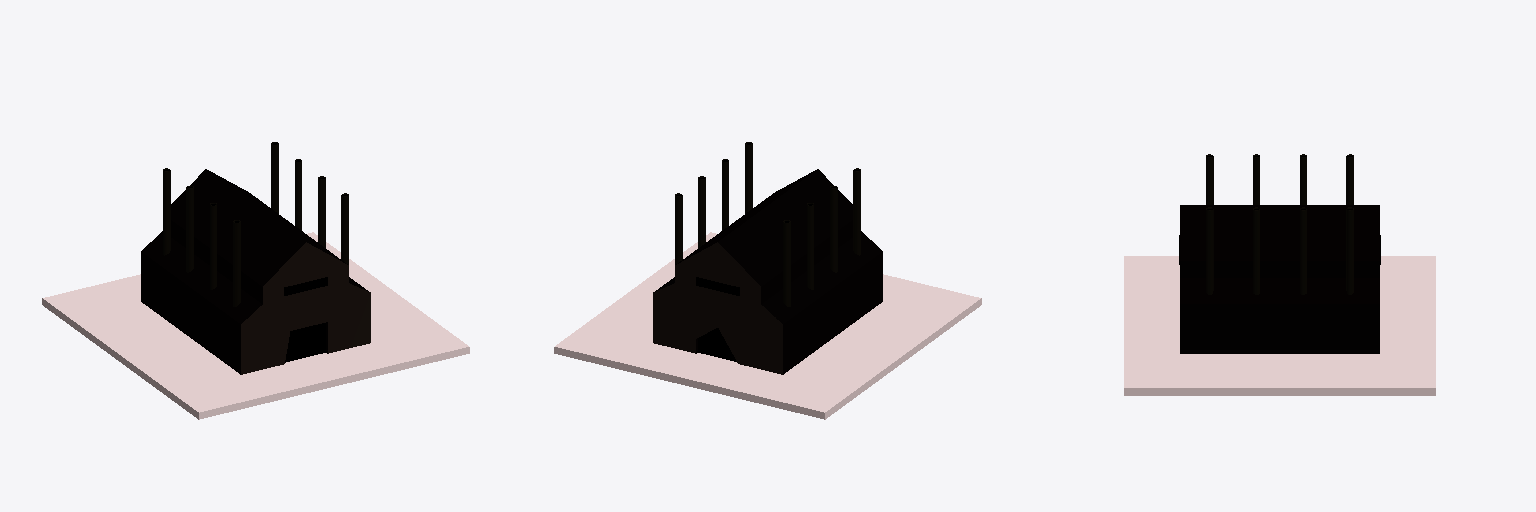
The model's file is TallerDeAceracion.obj.
3 views of the same model, side by side, from view 1: azimuth 30°, elevation 25°; view 2: azimuth 150°, elevation 25°; view 3: azimuth 270°, elevation 25° (orthographic).
Visible parts, largest first — view 1: Floor, MainBuilding1 Sides2 MainBuilding1, MainBuilding1 Exterior BuildingAttachment1, MainBuilding1 MainBuilding1 FrontAndBack2, MainBuilding1 BuildingAttachment1 Faces, MainBuilding1 BuildingAttachment2 Faces, MainBuildingEntrance1 MainBuilding1, Pipe Chimney2, Pipe Chimney1, Pipe Chimney4, Pipe Chimney3, Pipe Chimney7 (+2 smaller); view 2: Floor, MainBuilding1 Sides2 MainBuilding1, MainBuilding1 Exterior BuildingAttachment1, MainBuilding1 MainBuilding1 FrontAndBack2, MainBuilding1 BuildingAttachment1 Faces, MainBuilding1 BuildingAttachment2 Faces, MainBuildingEntrance1 MainBuilding1, Pipe Chimney3, Pipe Chimney4, Pipe Chimney1, Pipe Chimney2, Pipe Chimney6 (+2 smaller); view 3: Floor, MainBuilding1 Exterior BuildingAttachment2, MainBuilding1 Sides2 MainBuilding1, Pipe Chimney5, Pipe Chimney8, Pipe Chimney6, Pipe Chimney7.
Boxes of the visible parts, x1,y1,x2,y2 form: Floor: [42, 232, 469, 419]; MainBuilding1 Sides2 MainBuilding1: [171, 169, 347, 353]; MainBuilding1 Exterior BuildingAttachment1: [141, 231, 262, 374]; MainBuilding1 MainBuilding1 FrontAndBack2: [263, 242, 348, 368]; MainBuilding1 BuildingAttachment1 Faces: [150, 242, 262, 374]; MainBuilding1 BuildingAttachment2 Faces: [349, 283, 370, 347]; MainBuildingEntrance1 MainBuilding1: [285, 323, 325, 362]; Pipe Chimney2: [186, 185, 193, 272]; Pipe Chimney1: [163, 168, 170, 255]; Pipe Chimney4: [233, 220, 240, 306]; Pipe Chimney3: [210, 203, 216, 289]; Pipe Chimney7: [318, 176, 325, 247]; Floor: [554, 232, 981, 419]; MainBuilding1 Sides2 MainBuilding1: [676, 169, 852, 353]; MainBuilding1 Exterior BuildingAttachment1: [761, 231, 882, 374]; MainBuilding1 MainBuilding1 FrontAndBack2: [675, 242, 760, 368]; MainBuilding1 BuildingAttachment1 Faces: [761, 240, 872, 374]; MainBuilding1 BuildingAttachment2 Faces: [653, 283, 674, 347]; MainBuildingEntrance1 MainBuilding1: [698, 328, 736, 361]; Pipe Chimney3: [830, 185, 837, 272]; Pipe Chimney4: [853, 168, 860, 255]; Pipe Chimney1: [783, 220, 790, 306]; Pipe Chimney2: [807, 203, 813, 289]; Pipe Chimney6: [698, 176, 705, 247]; Floor: [1124, 256, 1435, 395]; MainBuilding1 Exterior BuildingAttachment2: [1180, 278, 1379, 353]; MainBuilding1 Sides2 MainBuilding1: [1180, 205, 1379, 277]; Pipe Chimney5: [1346, 207, 1353, 294]; Pipe Chimney8: [1206, 207, 1213, 294]; Pipe Chimney6: [1300, 207, 1306, 294]; Pipe Chimney7: [1253, 207, 1259, 294].
Bounding box in the file's own units: 200 × 104 × 200.